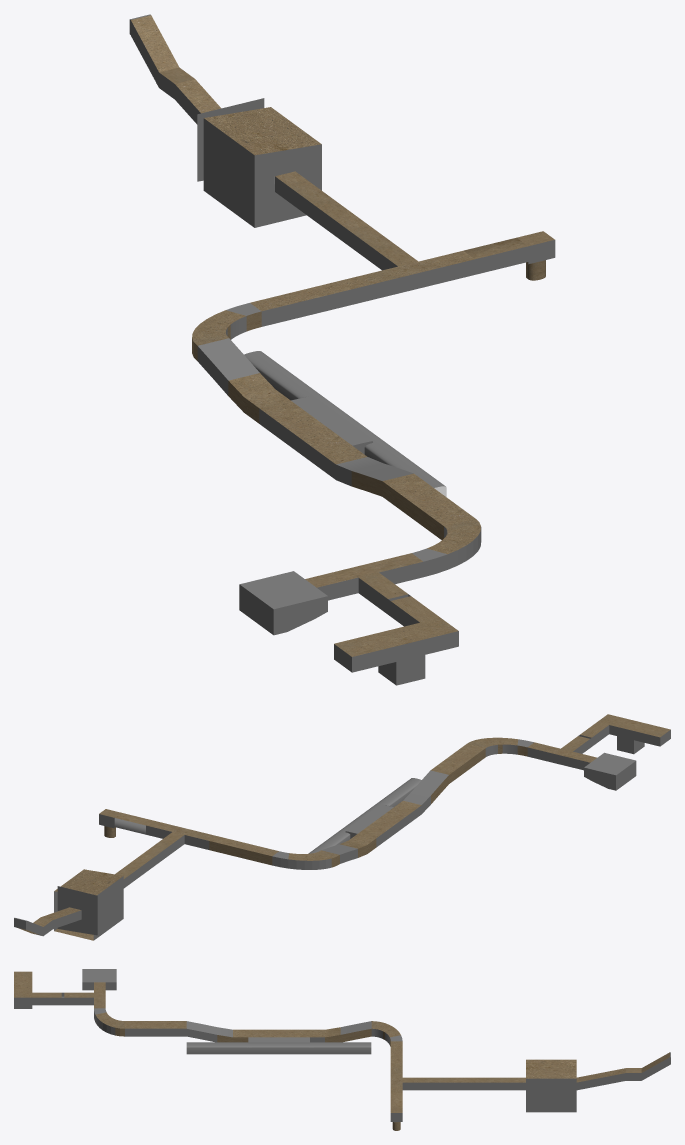
The model's file is underground_4.fbx.
The picture shows the model from 3 angles, top to bottom: view 1: azimuth 30°, elevation 25°; view 2: azimuth 150°, elevation 25°; view 3: azimuth 270°, elevation 25°; orthographic projection. The views are drawn at different scales.
Parts seen in each view (by area): view 1: Udg_Obj14, Udg_Obj24, Udg_Obj07, Udg_Obj04, Udg_Obj10, Udg_Obj06, Udg_Obj03, Udg_Obj01, Udg_Obj05, Udg_Obj13, Udg_Obj02, Udg_Obj12 (+10 smaller); view 2: Udg_Obj14, Udg_Obj24, Udg_Obj16, Udg_Obj05, Udg_Obj37, Udg_Obj04, Udg_Obj06, Udg_Obj03, Udg_Obj01, Udg_Obj10, Udg_Obj02, Udg_Obj07 (+9 smaller); view 3: Udg_Obj14, Udg_Obj24, Udg_Obj03, Udg_Obj05, Udg_Obj07, Udg_Obj12, Udg_Obj13, Udg_Obj043, Udg_Obj044, Udg_Obj045, Udg_Obj17, Udg_Obj02 (+9 smaller).
Boxes of the visible parts, x1=… form: Udg_Obj14: x1=203, y1=107, x2=321, y2=227; Udg_Obj24: x1=334, y1=572, x2=458, y2=685; Udg_Obj07: x1=197, y1=338, x2=290, y2=423; Udg_Obj04: x1=250, y1=276, x2=368, y2=326; Udg_Obj10: x1=357, y1=250, x2=474, y2=300; Udg_Obj06: x1=259, y1=400, x2=351, y2=468; Udg_Obj03: x1=382, y1=473, x2=474, y2=539; Udg_Obj01: x1=305, y1=553, x2=423, y2=600; Udg_Obj05: x1=320, y1=445, x2=413, y2=496; Udg_Obj13: x1=275, y1=171, x2=356, y2=236; Udg_Obj02: x1=412, y1=518, x2=481, y2=577; Udg_Obj12: x1=336, y1=216, x2=418, y2=270; Udg_Obj14: x1=54, y1=869, x2=123, y2=940; Udg_Obj24: x1=561, y1=714, x2=670, y2=754; Udg_Obj16: x1=57, y1=886, x2=97, y2=935; Udg_Obj05: x1=394, y1=770, x2=448, y2=820; Udg_Obj37: x1=272, y1=850, x2=339, y2=869; Udg_Obj04: x1=209, y1=836, x2=278, y2=865; Udg_Obj06: x1=358, y1=807, x2=412, y2=847; Udg_Obj03: x1=431, y1=744, x2=485, y2=783; Udg_Obj01: x1=527, y1=742, x2=596, y2=770; Udg_Obj10: x1=146, y1=820, x2=215, y2=849; Udg_Obj02: x1=467, y1=737, x2=533, y2=756; Udg_Obj07: x1=322, y1=834, x2=376, y2=863; Udg_Obj14: x1=526, y1=1059, x2=576, y2=1112; Udg_Obj24: x1=14, y1=971, x2=93, y2=1008; Udg_Obj03: x1=125, y1=1021, x2=186, y2=1036; Udg_Obj05: x1=186, y1=1021, x2=248, y2=1042; Udg_Obj07: x1=310, y1=1021, x2=371, y2=1042; Udg_Obj12: x1=402, y1=1077, x2=464, y2=1090; Udg_Obj13: x1=464, y1=1077, x2=525, y2=1090; Udg_Obj043: x1=186, y1=1042, x2=248, y2=1054; Udg_Obj044: x1=248, y1=1042, x2=309, y2=1054; Udg_Obj045: x1=310, y1=1042, x2=371, y2=1054; Udg_Obj17: x1=576, y1=1068, x2=625, y2=1090; Udg_Obj02: x1=94, y1=1008, x2=124, y2=1036.
Bounding box in the file's own units: 5967 × 943 × 11513.
